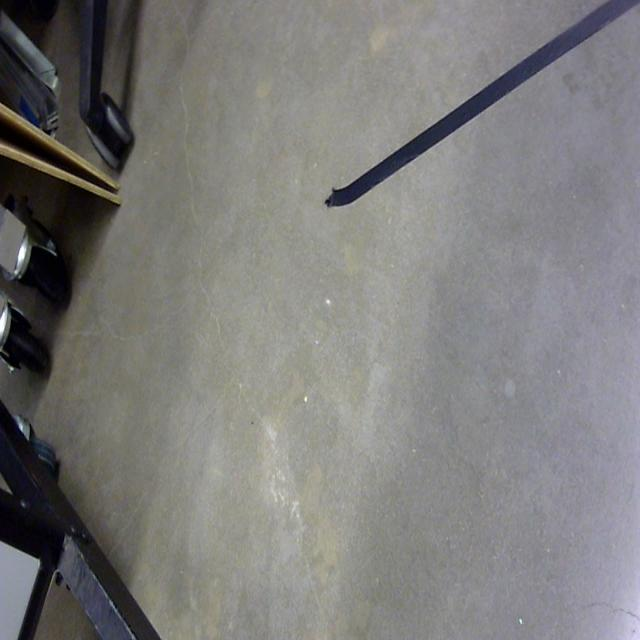tape: (324, 0, 640, 211)
